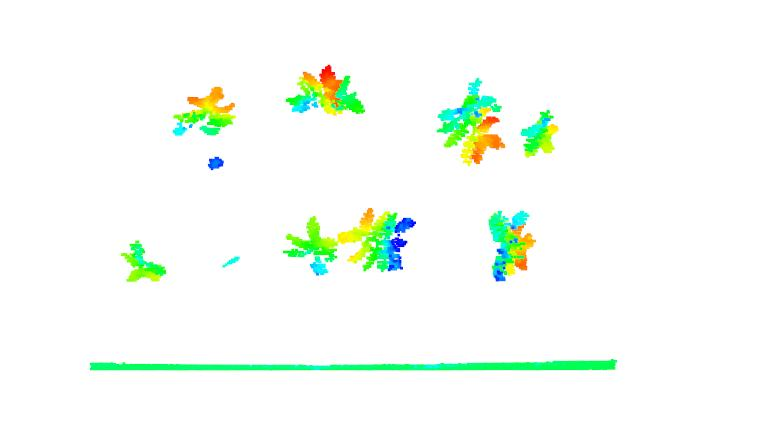chickpea: (437, 75, 509, 166), (338, 206, 418, 273), (286, 63, 367, 121), (486, 208, 537, 284), (169, 83, 238, 137), (284, 215, 338, 279), (119, 240, 170, 283), (518, 108, 559, 161)
